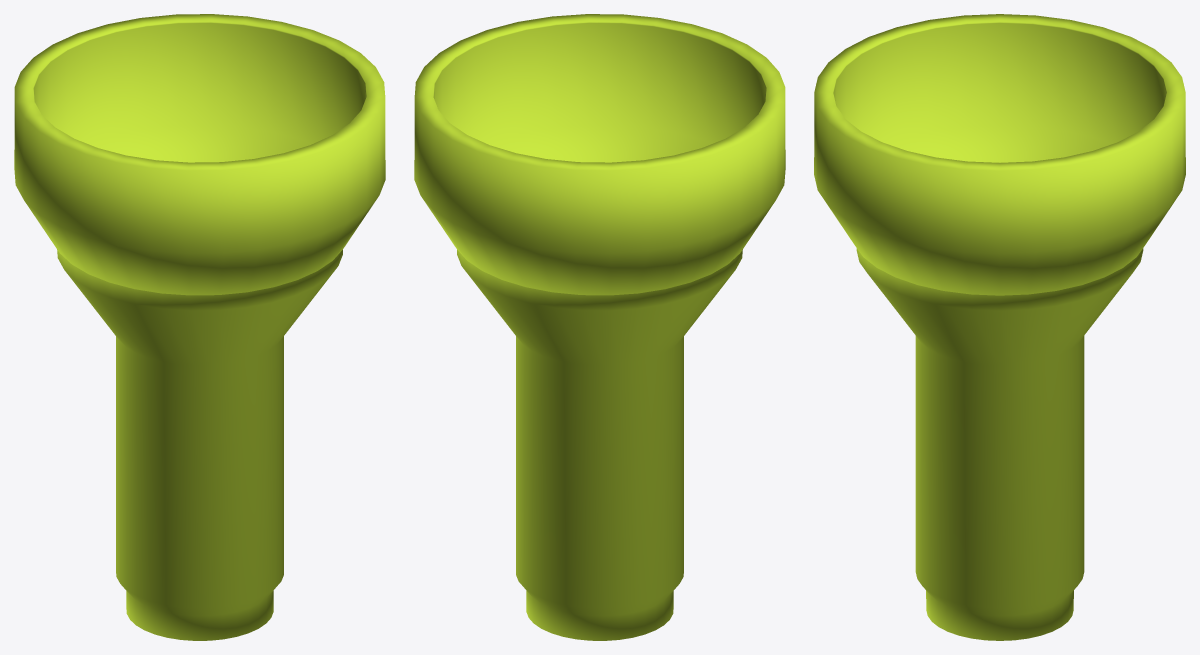
3 renders of one model, left to right at view 1: azimuth 30°, elevation 25°; view 2: azimuth 150°, elevation 25°; view 3: azimuth 270°, elevation 25°, orthographic.
Parts seen in each view (by area): view 1: Cylinder; view 2: Cylinder; view 3: Cylinder.
Boxes of the visible parts, x1,y1,x2,y2 form: Cylinder: (14, 14, 385, 640); Cylinder: (414, 14, 785, 640); Cylinder: (814, 14, 1185, 640).
Size of the model in its own units: 508 by 780 by 508.
